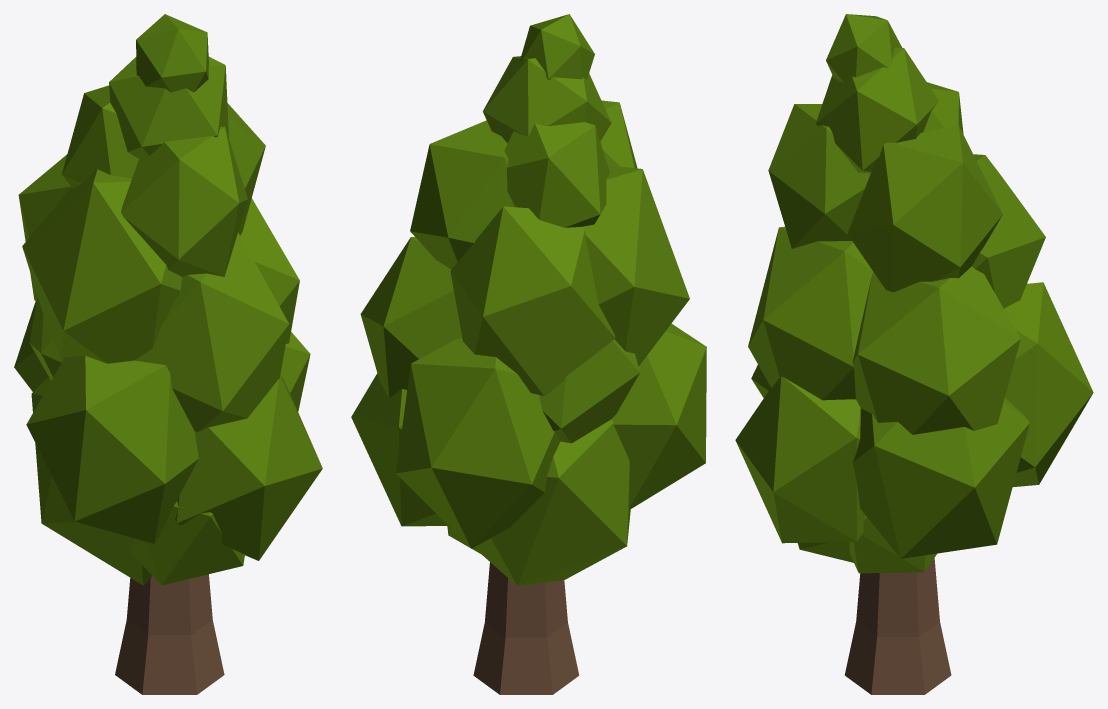
Rendered from Tree_Alive_4.fbx.
3 views of the same model, side by side, from view 1: azimuth 30°, elevation 25°; view 2: azimuth 150°, elevation 25°; view 3: azimuth 270°, elevation 25° (orthographic). The views are drawn at different scales.
Parts seen in each view (by area): view 1: Cedar 2; view 2: Cedar 2; view 3: Cedar 2.
Part boxes in pixels (x1,y1,x2,y2): Cedar 2: (14, 14, 322, 694); Cedar 2: (351, 14, 706, 694); Cedar 2: (735, 14, 1093, 694).
Size of the model in its own units: 155 by 335 by 167.
